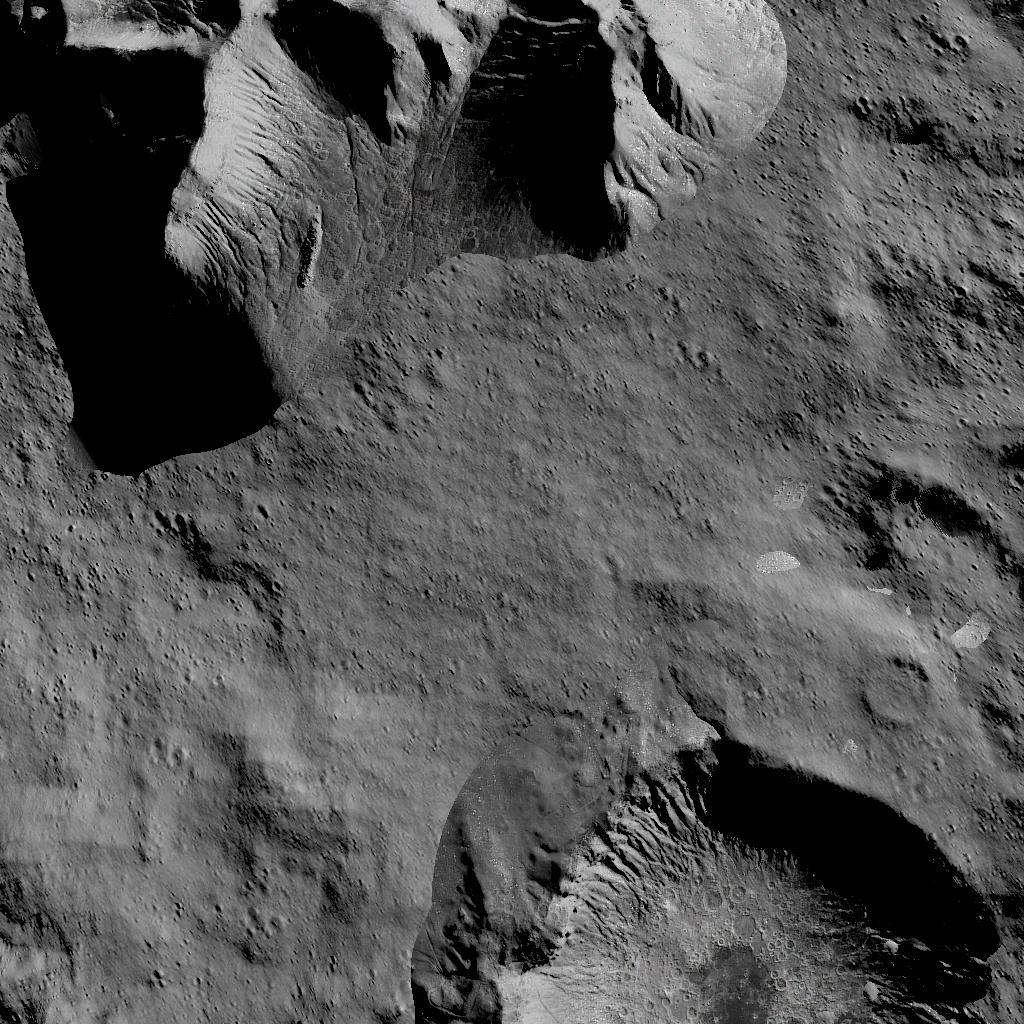Boulders: (0, 0, 792, 484)
Crater: (423, 718, 1024, 1024), (845, 418, 1024, 658), (0, 884, 89, 1024)
Plan surface: (21, 518, 406, 852), (821, 0, 1024, 389), (437, 502, 806, 692), (119, 876, 395, 1024)
